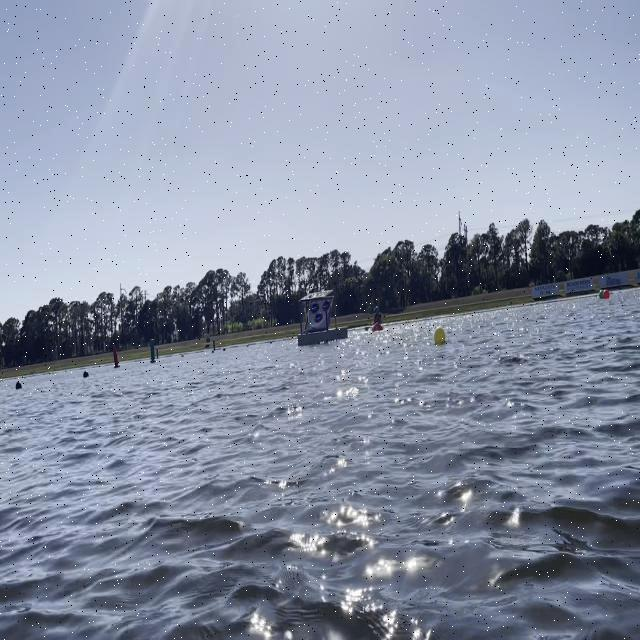buoy: (434, 325, 444, 345), (14, 380, 23, 390), (603, 288, 610, 300), (82, 368, 88, 379), (598, 288, 602, 299)
